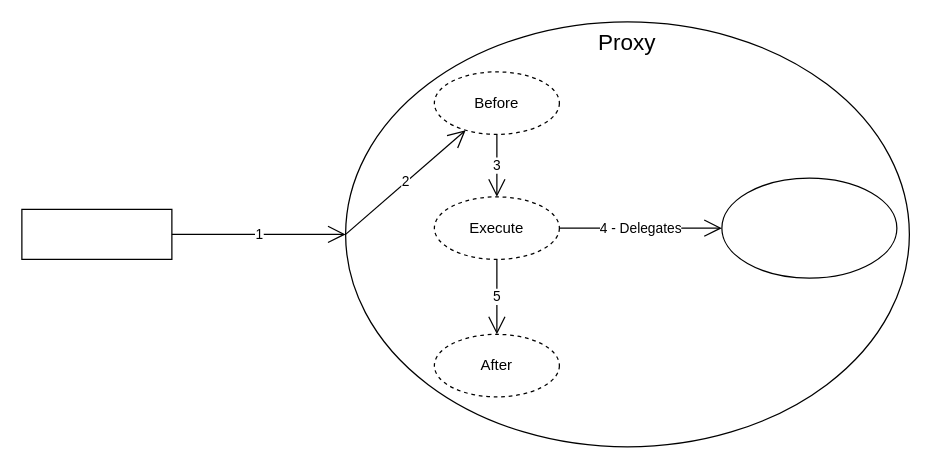
The diagram is 931 pixels wide and 469 high, and some of its shapes have lost their labels. The shapes that lost their labels are listed below. From the top down, each one's centre as x and y in pixels, then its label:
At pixel 96 233: "Client".
At pixel 809 227: "Actual Object".
